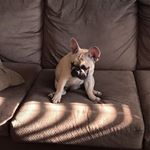puppy: (45, 36, 108, 107)
